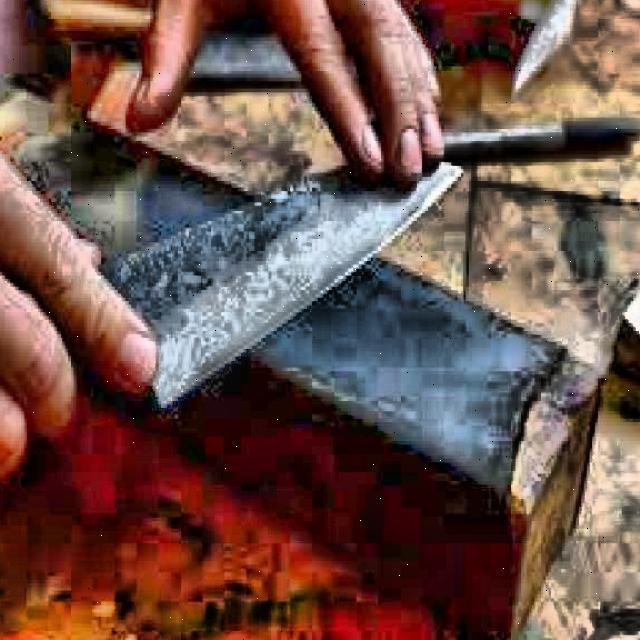knife: (99, 152, 463, 405)
